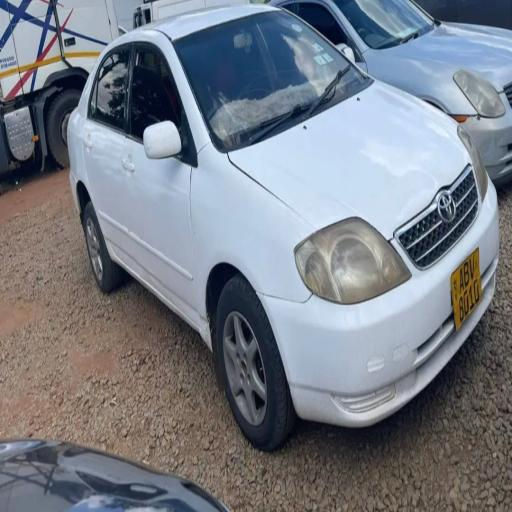number-plates: (449, 250, 484, 323)
